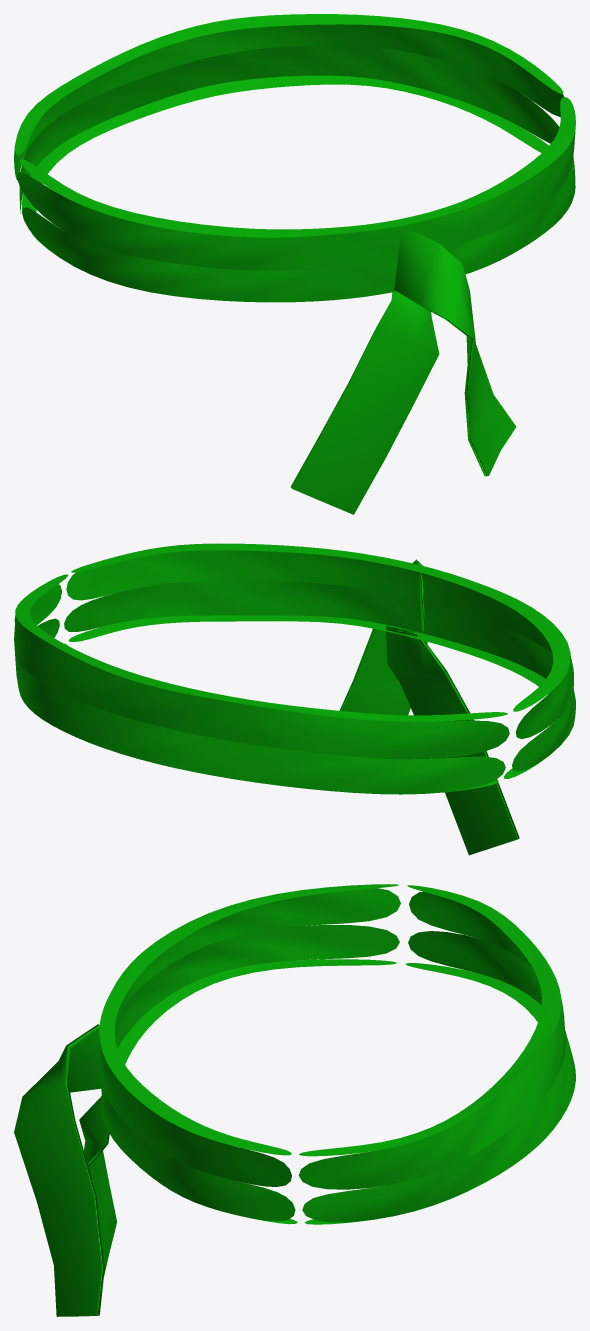
The model's file is belt-green.glb.
3 views of the same model, one above another, from view 1: azimuth 30°, elevation 25°; view 2: azimuth 150°, elevation 25°; view 3: azimuth 270°, elevation 25° (orthographic). The views are drawn at different scales.
Visible parts, largest first — view 1: belt.001, belt2.001, belt3.001; view 2: belt.001, belt2.001, belt3.001; view 3: belt.001, belt3.001, belt2.001.
Part boxes in pixels (x1,y1,x2,y2): belt.001: (14,14,575,302); belt2.001: (290,291,439,514); belt3.001: (394,227,516,476); belt.001: (14,543,575,794); belt2.001: (386,626,519,855); belt3.001: (339,559,427,715); belt.001: (99,884,575,1224); belt3.001: (14,1024,104,1316); belt2.001: (79,1096,116,1275).
Bounding box in the file's own units: 0.3013 × 0.176 × 0.2804.
